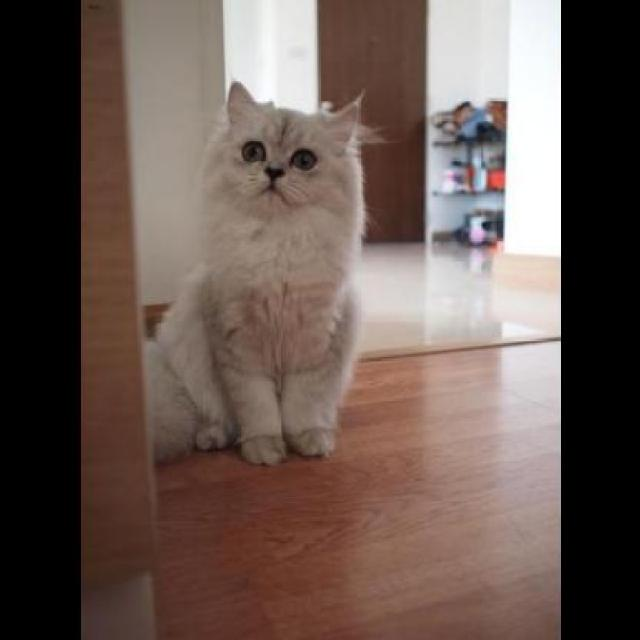unauthorized: (142, 79, 388, 466)
